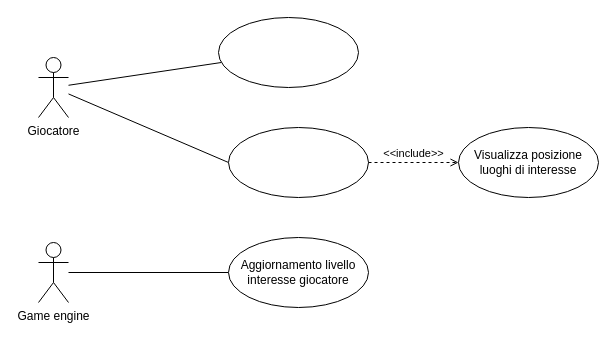
The diagram is 616 pixels wide and 341 high, and some of its shapes have lost their labels. The box of each missing label's shape, as (x1, y1, x2, y2) in pixels:
Sfida giocatore: (228, 126, 368, 198)
Visualizzazione livello esperienza: (218, 16, 358, 88)
